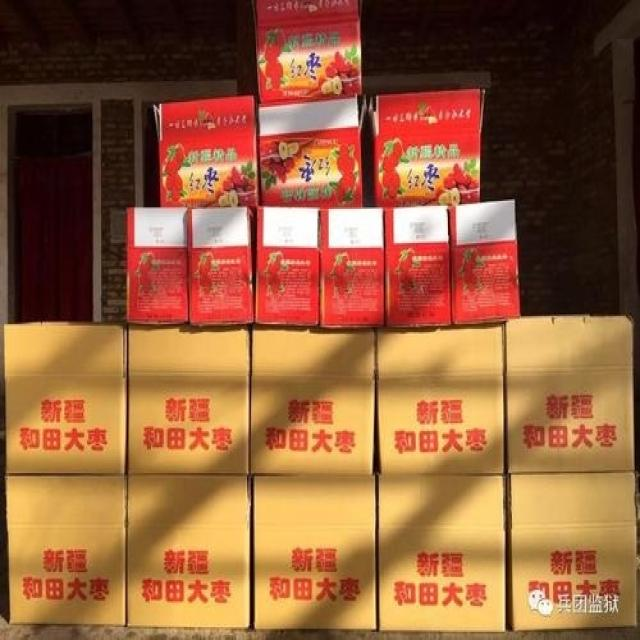box: (508, 475, 637, 630), (507, 318, 636, 473), (378, 476, 506, 632), (378, 322, 506, 473), (255, 476, 378, 630), (127, 476, 250, 627), (4, 324, 127, 473), (128, 326, 250, 475), (5, 476, 127, 625), (251, 329, 375, 475), (369, 91, 485, 206), (259, 97, 367, 207), (154, 96, 259, 207), (252, 0, 362, 104), (452, 199, 520, 324), (385, 207, 451, 326), (255, 209, 320, 326), (125, 207, 189, 324), (321, 207, 383, 327), (188, 209, 252, 324)
